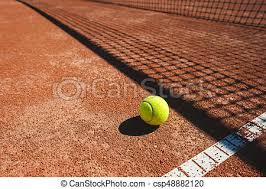tennis_ball: (139, 95, 169, 125)
